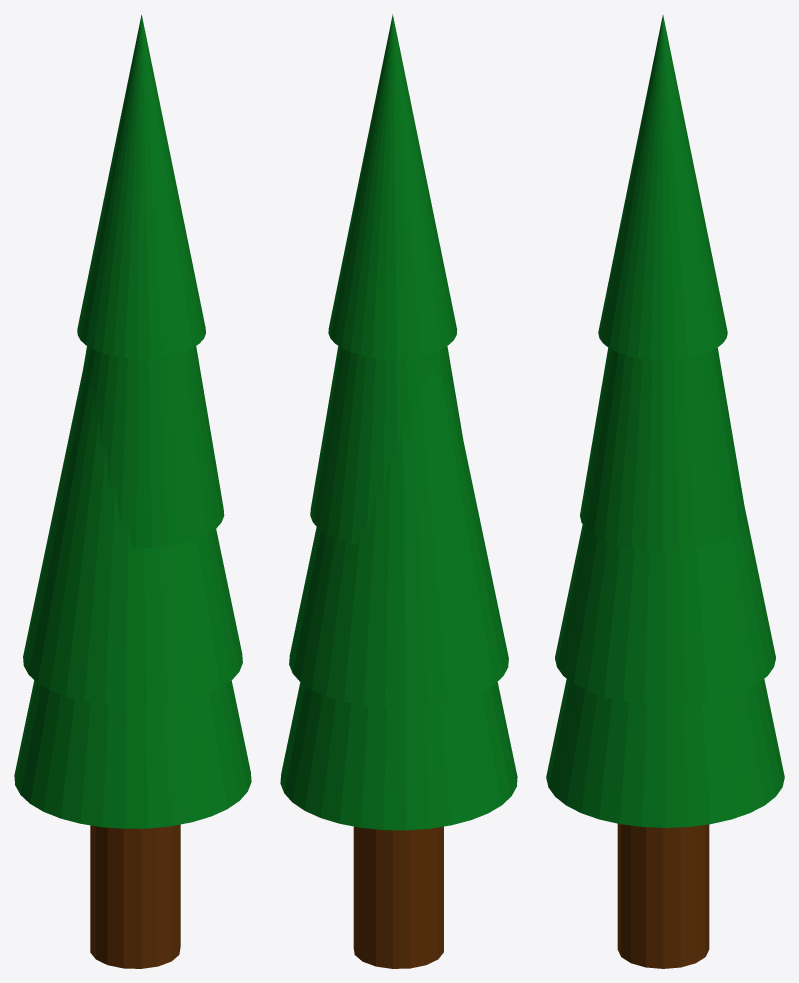
File: pine_tree.glb
The picture shows the model from 3 angles, left to right: view 1: azimuth 30°, elevation 25°; view 2: azimuth 150°, elevation 25°; view 3: azimuth 270°, elevation 25°; orthographic projection.
Parts seen in each view (by area): view 1: Cone.001, Cone, Cone.003, Cone.002, Cylinder; view 2: Cone.001, Cone, Cone.003, Cone.002, Cylinder; view 3: Cone.001, Cone, Cone.002, Cone.003, Cylinder.
Part boxes in pixels (x1=…): Cone.001: x1=23, y1=362, x2=242, y2=706; Cone: x1=14, y1=680, x2=251, y2=828; Cone.003: x1=77, y1=15, x2=205, y2=358; Cone.002: x1=83, y1=346, x2=224, y2=548; Cylinder: x1=90, y1=824, x2=180, y2=968; Cone.001: x1=289, y1=374, x2=508, y2=707; Cone: x1=280, y1=682, x2=517, y2=830; Cone.003: x1=328, y1=14, x2=457, y2=358; Cone.002: x1=310, y1=346, x2=462, y2=544; Cylinder: x1=353, y1=826, x2=443, y2=968; Cone.001: x1=555, y1=507, x2=775, y2=704; Cone: x1=546, y1=679, x2=784, y2=827; Cone.002: x1=580, y1=348, x2=745, y2=550; Cone.003: x1=598, y1=15, x2=727, y2=360; Cylinder: x1=617, y1=823, x2=709, y2=968.
Size of the model in its own units: 5.22 by 22.63 by 5.22.
